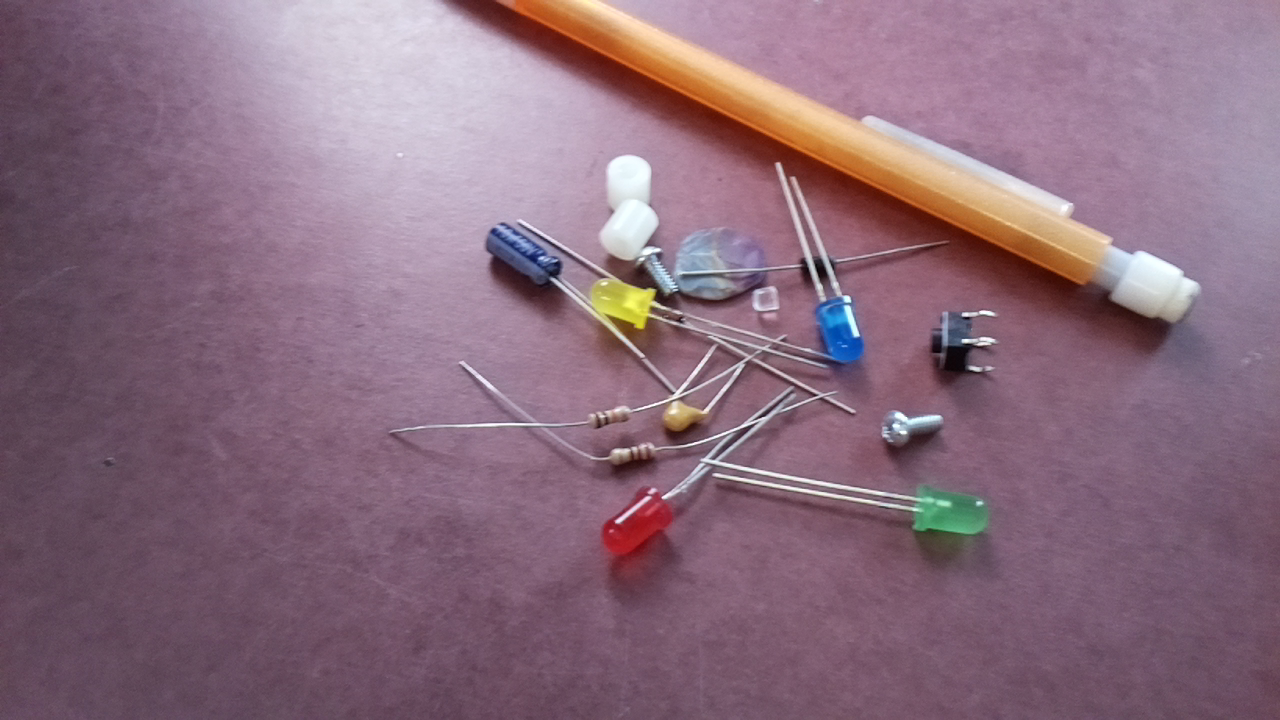button: (927, 308, 975, 378)
capacitor: (483, 222, 567, 292), (659, 394, 710, 438)
diode: (797, 251, 839, 277), (657, 306, 687, 330)
led: (599, 482, 674, 562), (912, 480, 993, 546), (809, 293, 867, 370), (588, 273, 660, 334)
resistor: (585, 403, 633, 431), (607, 442, 659, 466)
